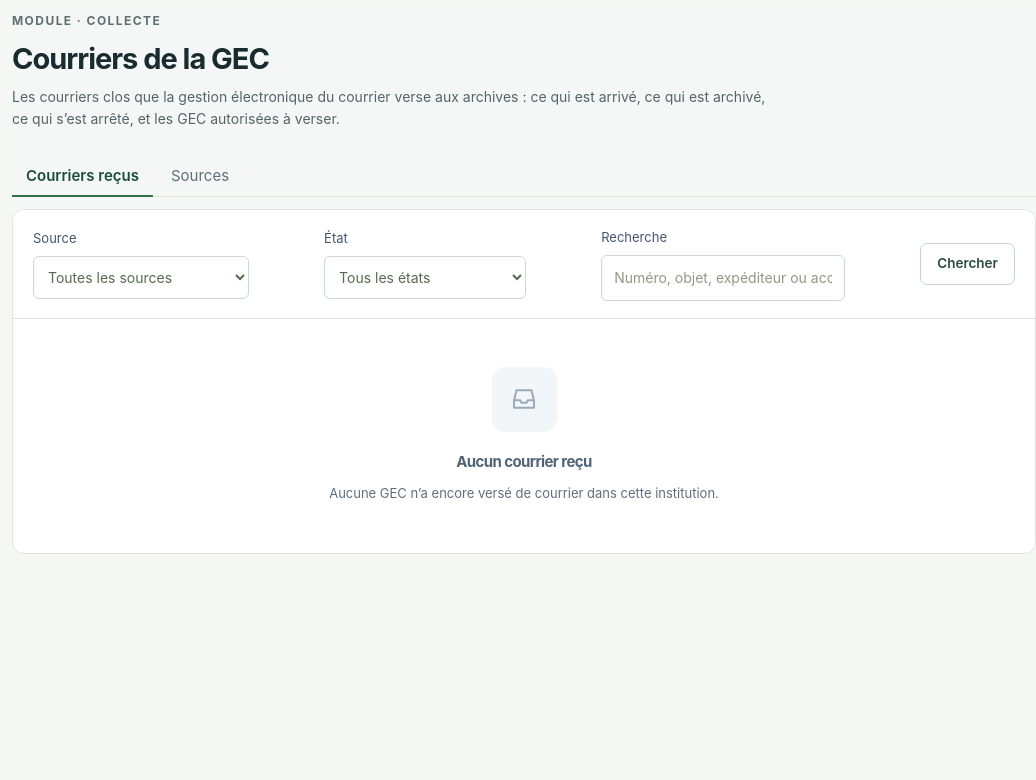
it: un journal vide le dit, avec ou sans filtre, et une erreur du serveur se relit
Expected: the text "Aucune GEC n’a encore versé de courrier dans cette institution." is shown, [298,482,750,505]
Select "En cours ou à reprendre" in the dropdown labelled "État" at (425, 278), box [324,256,526,299]
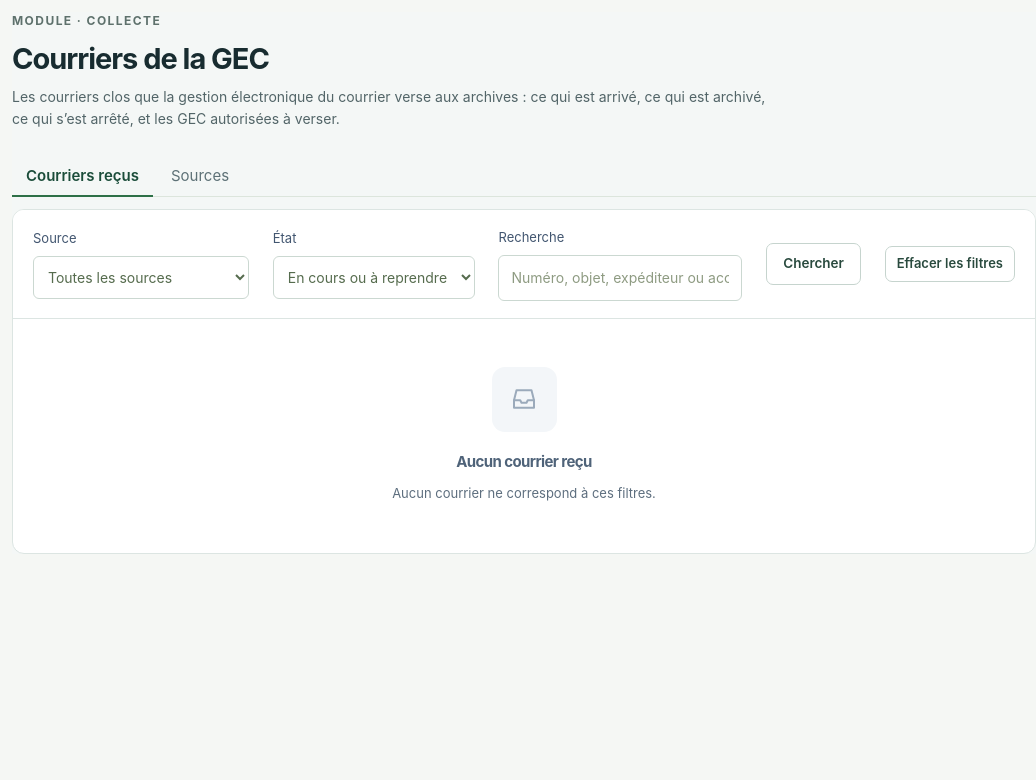
Expected: the text "Aucun courrier ne correspond à ces filtres." is shown, [392,485,656,501]
Select "Archivé" in the dropdown labelled "État" at (374, 278), box [273,256,475,299]
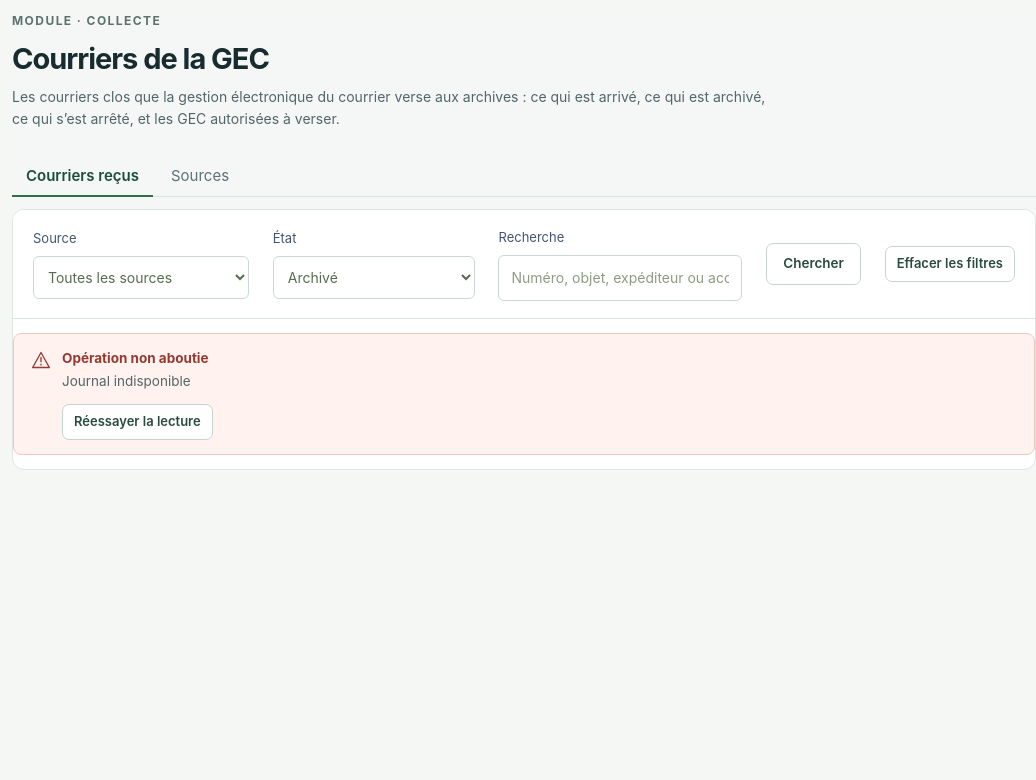
Expected: the text "Journal indisponible" is shown, [62,369,213,394]
Click the button "Réessayer la lecture" at (137, 422), box [62,404,213,440]
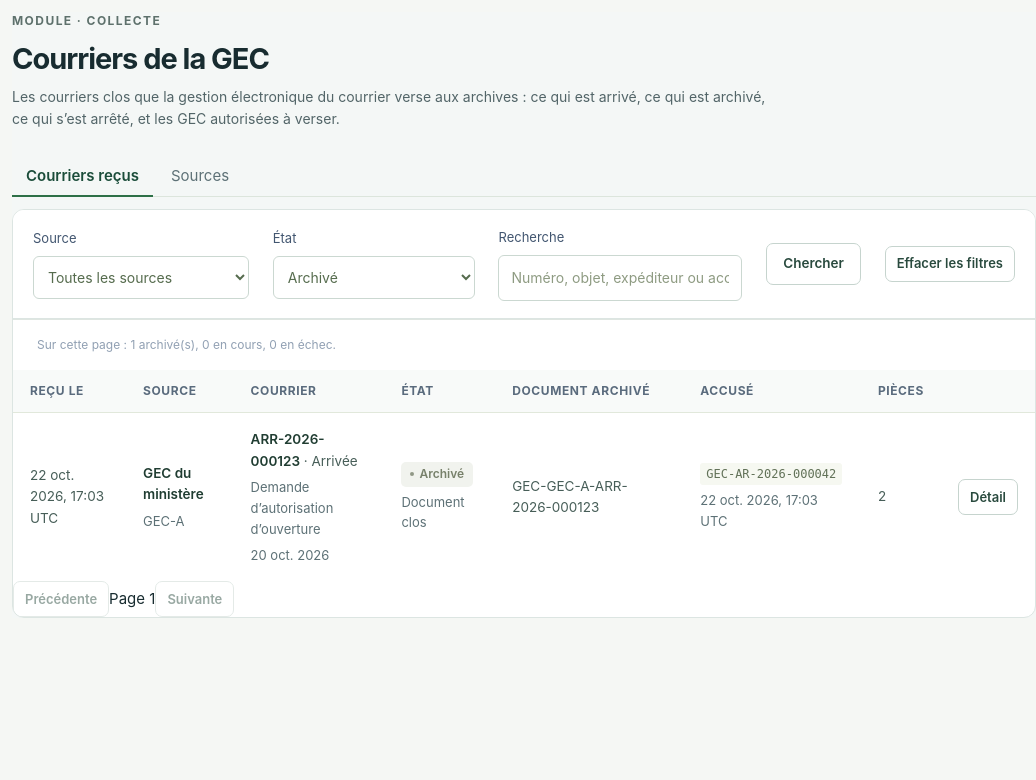
Expected: the text "ARR-2026-000123" is shown, [251,431,325,469]
